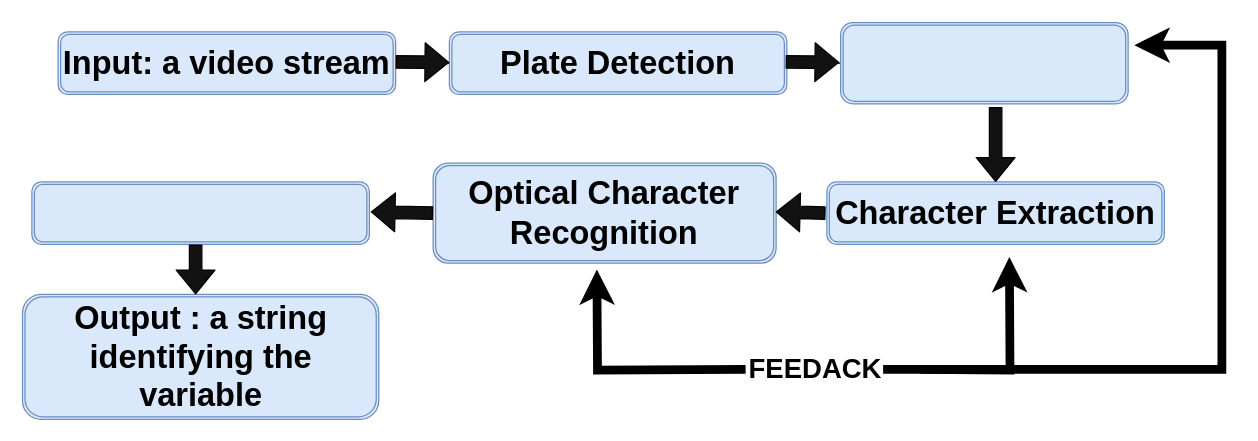
Image size: 1258x441. Some labels were removed from this diagram. The shapes that lost their labels are listed below. From the top down, each one's box as (x1, y1, x2, y2) in pixels, then its label:
(839, 21, 1128, 104): Plate Binarization
(31, 181, 369, 244): Temporal Averaging
